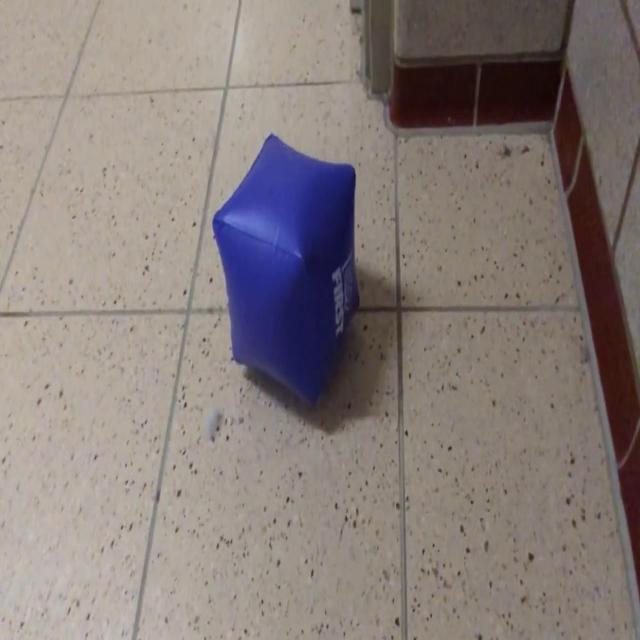frc_cube: (213, 132, 361, 414)
